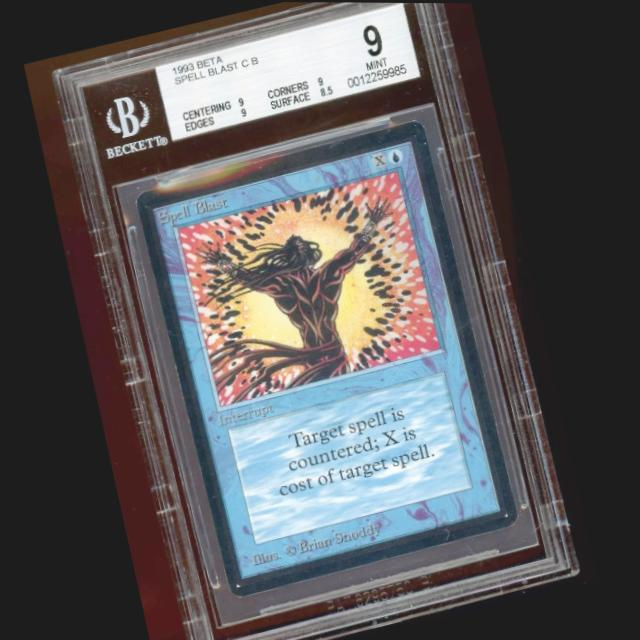bgs_label: (156, 2, 422, 141)
bgs_slab: (50, 2, 586, 640)
card: (133, 117, 524, 599)
